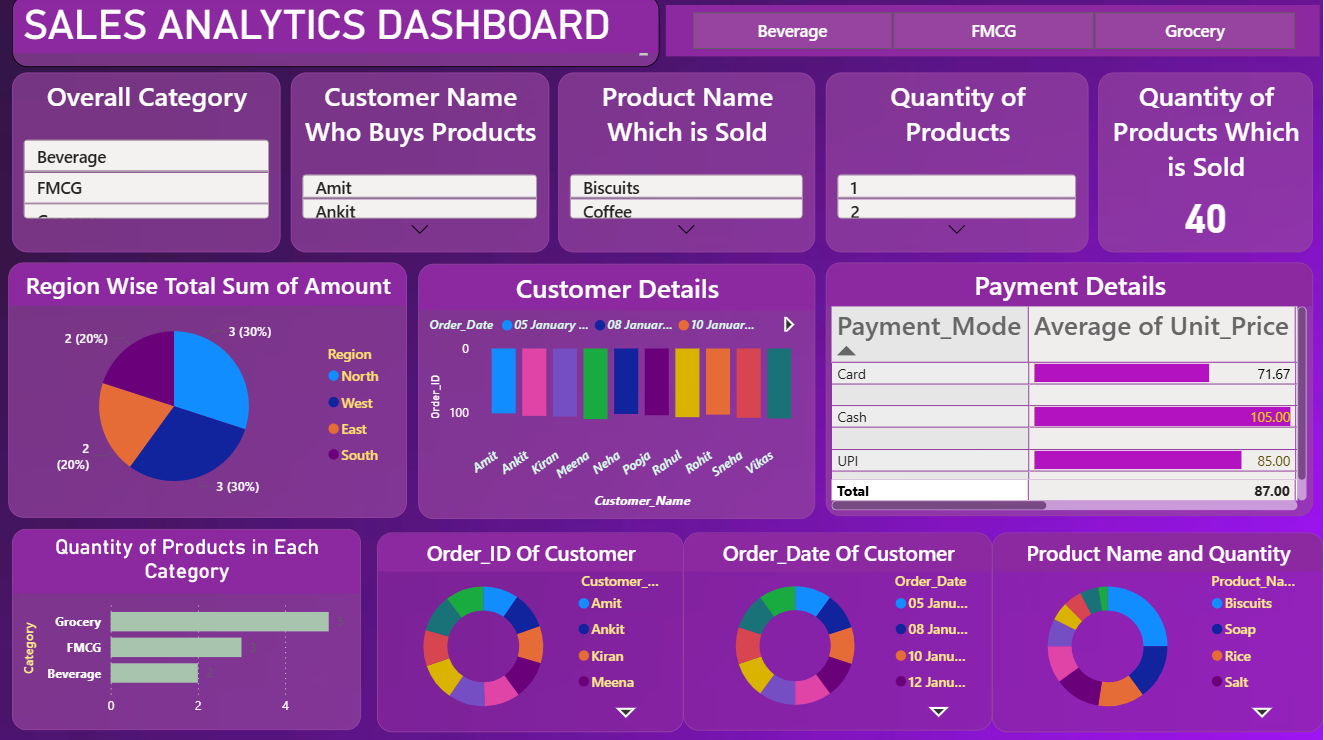

This screenshot's page, from the dashboard's own definition file:
{"tool":"powerbi","page":{"name":"Page 1","canvas":[1280,720],"ordinal":0},"visuals":[{"type":"cardVisual","title":"Overall Category","fields":{"Rows":["Sales_Q3.Category"]},"box":[14.1,74.6,259.2,173.2],"z":0},{"type":"cardVisual","title":"Customer  Name Who Buys Products","fields":{"Rows":["Sales_Q3.Customer_Name"]},"box":[283.1,74.6,249.3,173.2],"z":1000},{"type":"cardVisual","title":"Product Name Which   is Sold","fields":{"Rows":["Sales_Q3.Product_Name"]},"box":[542.3,74.6,247.9,173.2],"z":2000},{"type":"cardVisual","title":"Quantity of Products","fields":{"Rows":["Sales_Q3.Quantity"]},"box":[800,74.6,253.5,173.2],"z":3000},{"type":"card","title":"Quantity of Products Which is  Sold","fields":{"Values":["Sales_Q3.Quantity of Sold Products"]},"box":[1063.4,74.6,207,173.2],"z":4000},{"type":"pieChart","title":"Region Wise Total Sum of Amount","fields":{"Category":["Sales_Q3.Region"],"Y":["CountNonNull(Sales_Q3.Total_Amount)"]},"box":[11.3,257.7,384.5,246.5],"z":5000},{"type":"columnChart","title":"Customer Details","fields":{"Category":["Sales_Q3.Customer_Name"],"Y":["Max(Sales_Q3.Order_ID)"],"Series":["Sales_Q3.Order_Date"]},"box":[407,259.2,383.1,246.5],"z":6000},{"type":"pivotTable","title":"Payment Details","fields":{"Rows":["Sales_Q3.Payment_Mode"],"Values":["Avg(Sales_Q3.Unit_Price)","Avg(Sales_Q3.Total_Amount)"]},"box":[800,257.7,470.4,245.1],"z":7000},{"type":"barChart","title":"Quantity of Products  in Each Category","fields":{"Category":["Sales_Q3.Category"],"Y":["CountNonNull(Sales_Q3.Quantity)"]},"box":[14.1,515.5,336.6,194.4],"z":8000},{"type":"donutChart","title":" Order_ID Of Customer","fields":{"Y":["Sum(Sales_Q3.Order_ID)"],"Series":["Sales_Q3.Customer_Name"]},"box":[366.2,518.3,295.8,193],"z":9000},{"type":"donutChart","title":" Order_Date Of Customer","fields":{"Series":["Sales_Q3.Customer_Name"],"Category":["Sales_Q3.Order_Date"],"Y":["CountNonNull(Sales_Q3.Order_Date)"]},"box":[662,518.3,298.6,191.5],"z":10000},{"type":"donutChart","title":"Product Name and Quantity","fields":{"Y":["Sum(Sales_Q3.Quantity)"],"Category":["Sales_Q3.Product_Name"]},"box":[960.6,518.3,319.7,193],"z":11000},{"type":"textbox","title":"SALES ANALYTICS DASHBOARD","box":[14.5,0,624.9,70],"z":12000},{"type":"slicer","fields":{"Values":["Sales_Q3.Category"]},"box":[645.1,9.9,631,49.3],"z":13000}]}

Visuals, with their boxes in screenshot pixels (x1, y1, x2, y2), scaled from the page's 1280x720 canvas onto the 1324x740 screenshot:
"Overall Category" cardVisual: 15:77:283:255
"Customer  Name Who Buys Products" cardVisual: 293:77:551:255
"Product Name Which   is Sold" cardVisual: 561:77:817:255
"Quantity of Products" cardVisual: 828:77:1090:255
"Quantity of Products Which is  Sold" card: 1100:77:1314:255
"Region Wise Total Sum of Amount" pieChart: 12:265:409:518
"Customer Details" columnChart: 421:266:817:520
"Payment Details" pivotTable: 828:265:1314:517
"Quantity of Products  in Each Category" barChart: 15:530:363:730
" Order_ID Of Customer" donutChart: 379:533:685:731
" Order_Date Of Customer" donutChart: 685:533:994:730
"Product Name and Quantity" donutChart: 994:533:1323:731
"SALES ANALYTICS DASHBOARD" textbox: 15:0:661:72
slicer - Sales_Q3.Category: 667:10:1320:61
